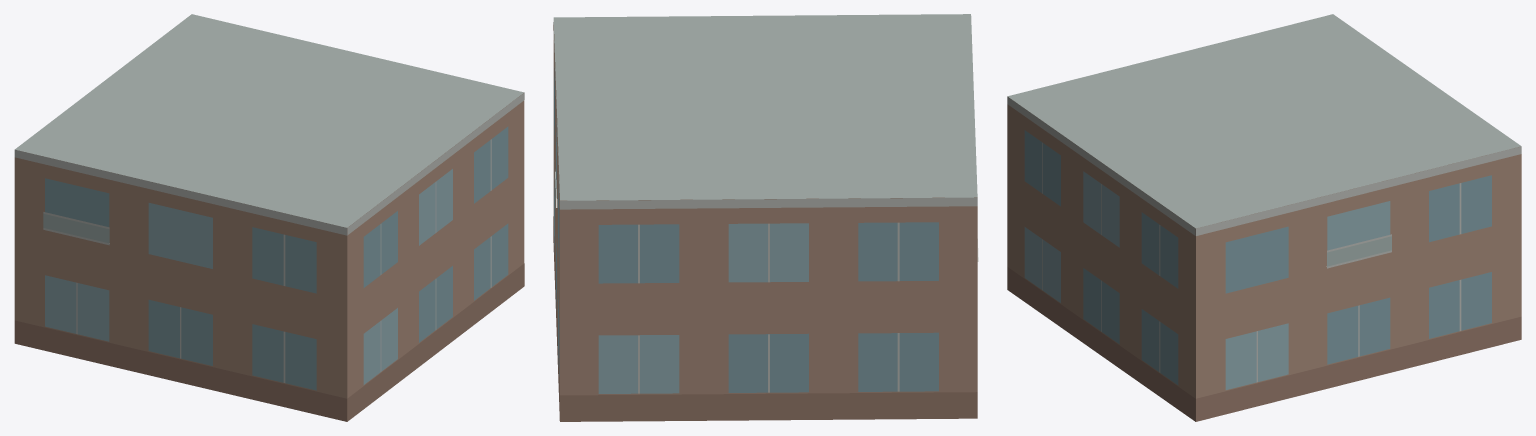
File: survey-upis-32915697.glb
3 renders of one model, left to right at view 1: azimuth 30°, elevation 25°; view 2: azimuth 150°, elevation 25°; view 3: azimuth 270°, elevation 25°, orthographic. The views are drawn at different scales.
Parts seen in each view (by area): view 1: survey-upis-32915697.tmp; view 2: survey-upis-32915697.tmp; view 3: survey-upis-32915697.tmp.
Boxes of the visible parts, x1,y1,x2,y2 form: survey-upis-32915697.tmp: (14, 14, 524, 421); survey-upis-32915697.tmp: (553, 14, 978, 421); survey-upis-32915697.tmp: (1007, 14, 1521, 421).
Bounding box in the file's own units: 14.52 × 6.1 × 14.71.
